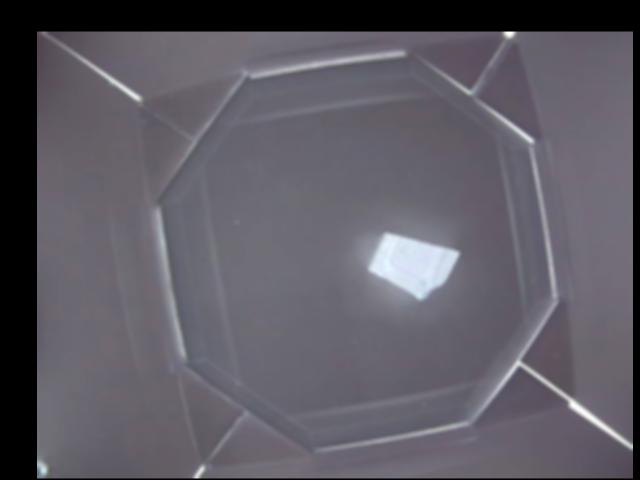China: (367, 231, 461, 303)
